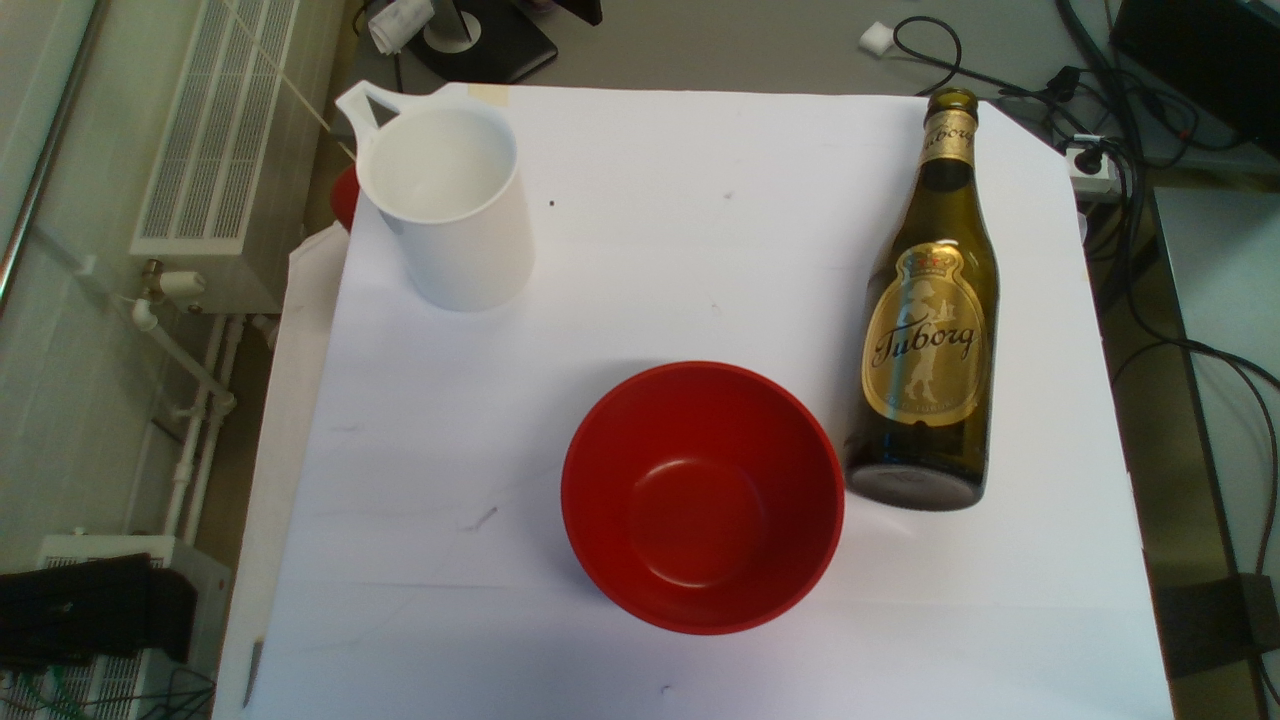bottle: (842, 87, 1001, 512)
bowl: (564, 359, 846, 636)
cup: (327, 73, 536, 311)
